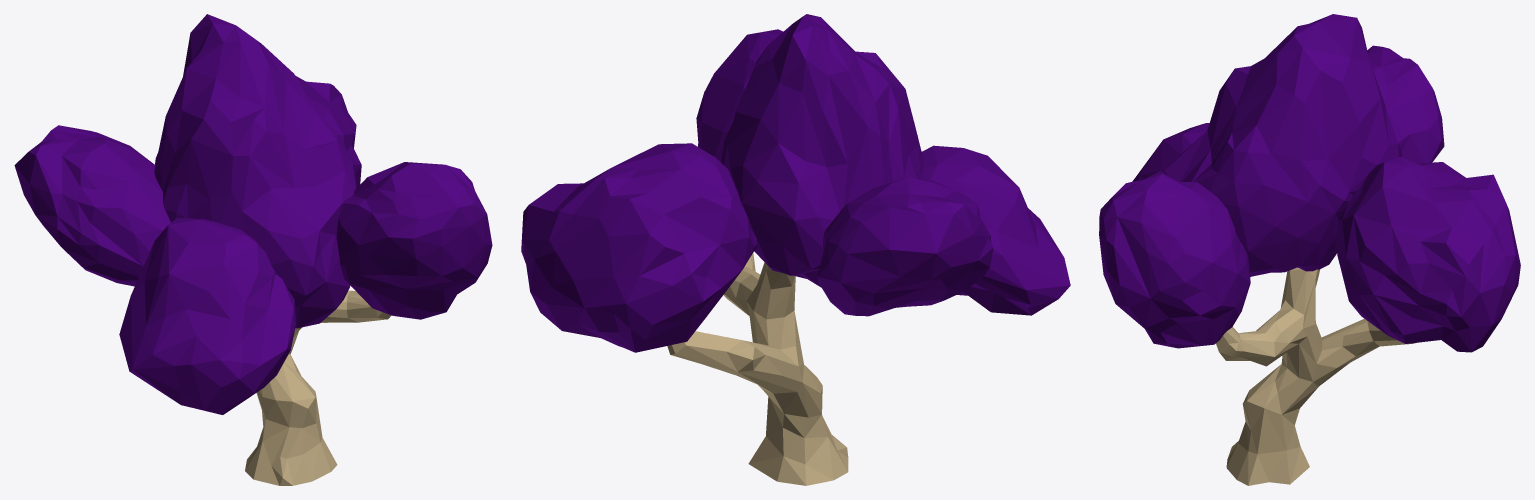
File: 20C_Tree_04.fbx
The picture shows the model from 3 angles, left to right: view 1: azimuth 30°, elevation 25°; view 2: azimuth 150°, elevation 25°; view 3: azimuth 270°, elevation 25°; orthographic projection. The views are drawn at different scales.
Parts seen in each view (by area): view 1: 20C_Tree_04; view 2: 20C_Tree_04; view 3: 20C_Tree_04.
Boxes of the visible parts, <box> form: 20C_Tree_04: <box>14,14,492,485</box>; 20C_Tree_04: <box>521,14,1070,485</box>; 20C_Tree_04: <box>1099,14,1520,485</box>.
Size of the model in its own units: 59.01 by 66.6 by 58.97.
